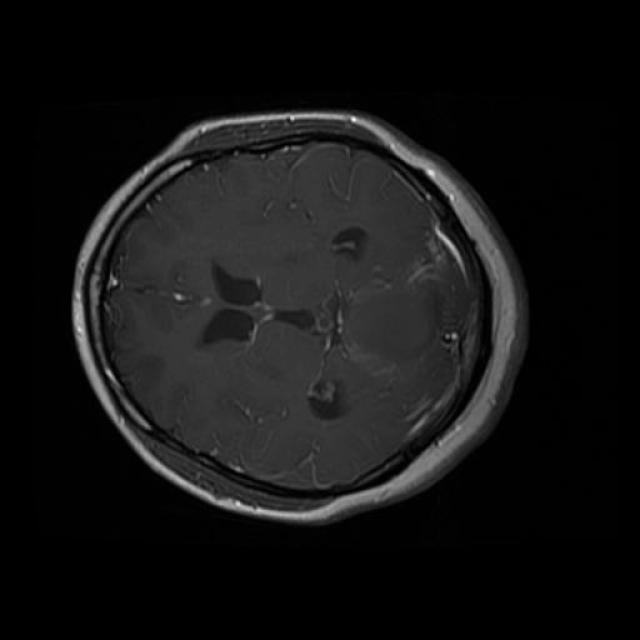Glioma: (350, 248, 473, 365)
